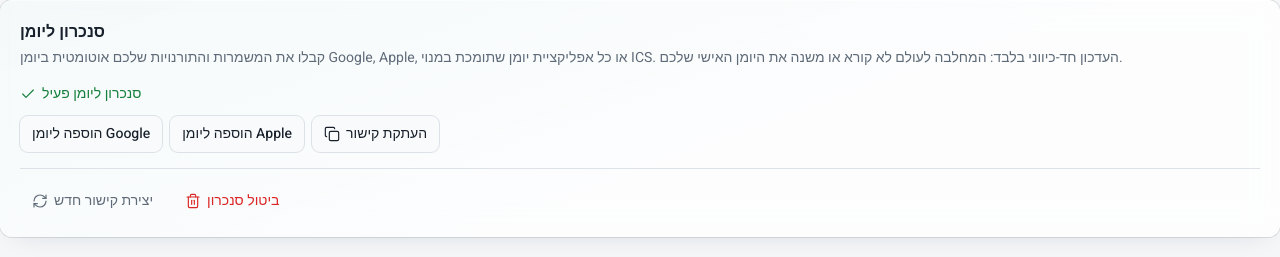
Test: CalendarSyncSection — enabled › disable requires a second confirming tap, then reverts to the not-enabled state
This screenshot has width=1280, height=257.
What coordinates should you click on to do the following:
click the button "ביטול סנכרון"
I would click on:
 (232, 201)
Its box is [173,185,291,217].
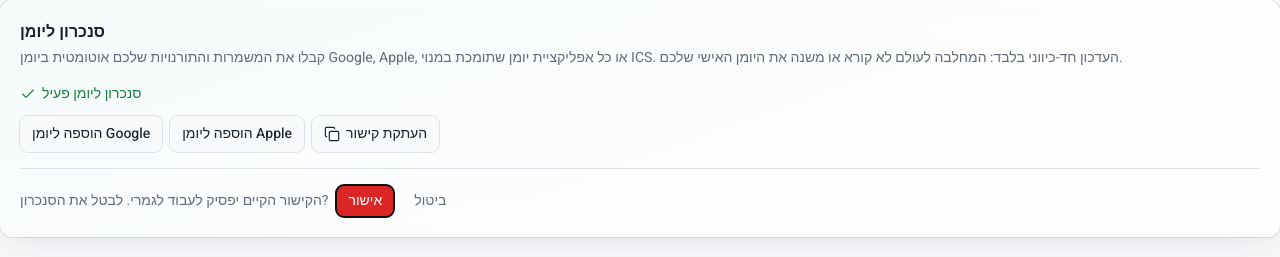
What coordinates should you click on to do the following:
click the button "אישור"
I would click on:
 (365, 201)
Its box is [336,185,394,217].
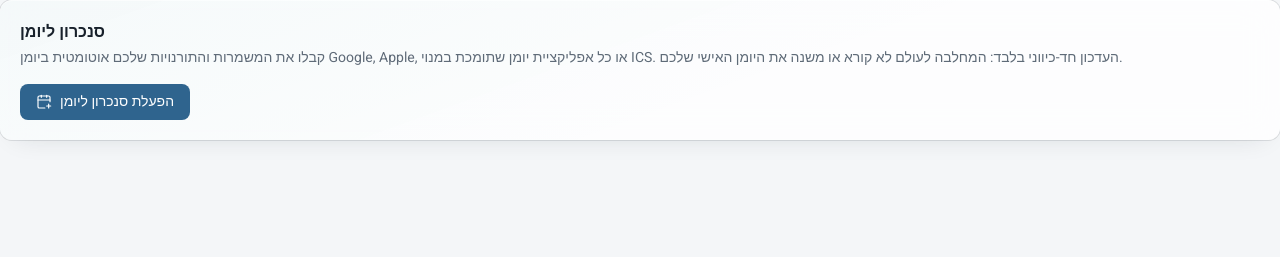
expect the button "הפעלת סנכרון ליומן" is shown: met, box [20,84,190,120]
expect the text "סנכרון ליומן פעיל" is gone: met
